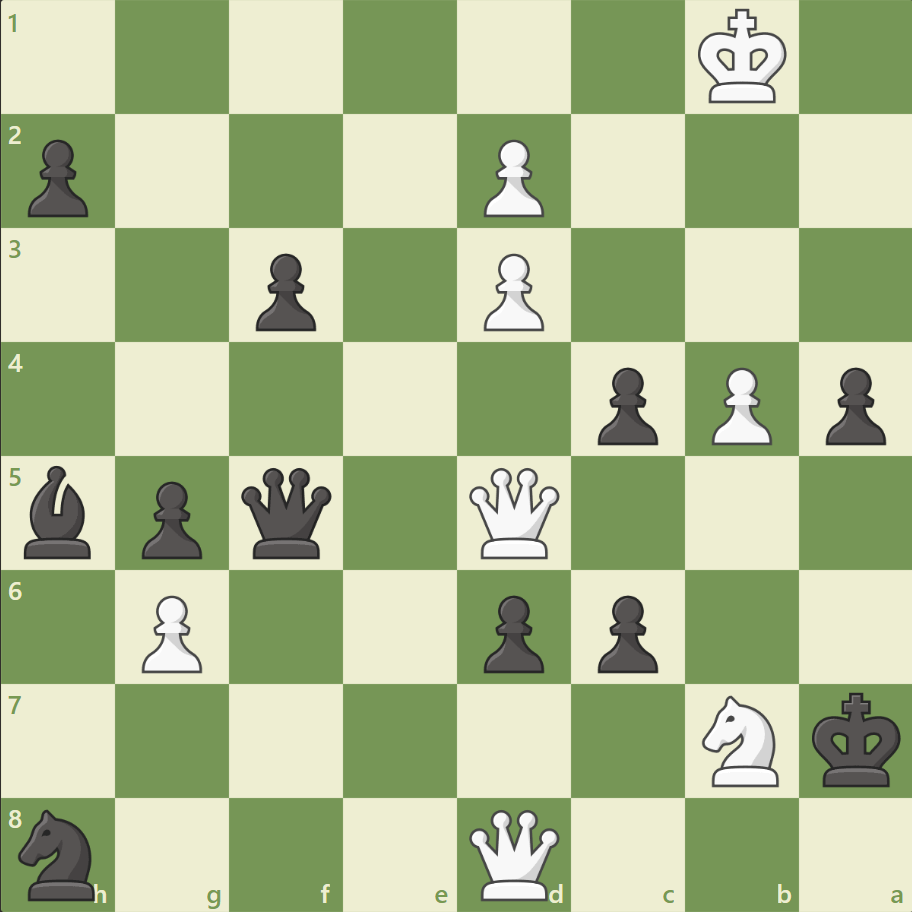K: (692, 4, 792, 112)
N: (692, 688, 789, 791)
P: (133, 586, 208, 677), (701, 359, 776, 450), (474, 246, 549, 337), (474, 132, 549, 223)
Q: (464, 804, 563, 903), (464, 463, 563, 562)
b: (17, 460, 101, 563)
k: (806, 685, 906, 793)
n: (11, 802, 108, 904)
p: (474, 586, 549, 677), (133, 473, 208, 564), (247, 246, 322, 337), (20, 132, 95, 223), (588, 586, 662, 677), (815, 359, 889, 450), (588, 359, 662, 450)
q: (237, 463, 336, 562)
